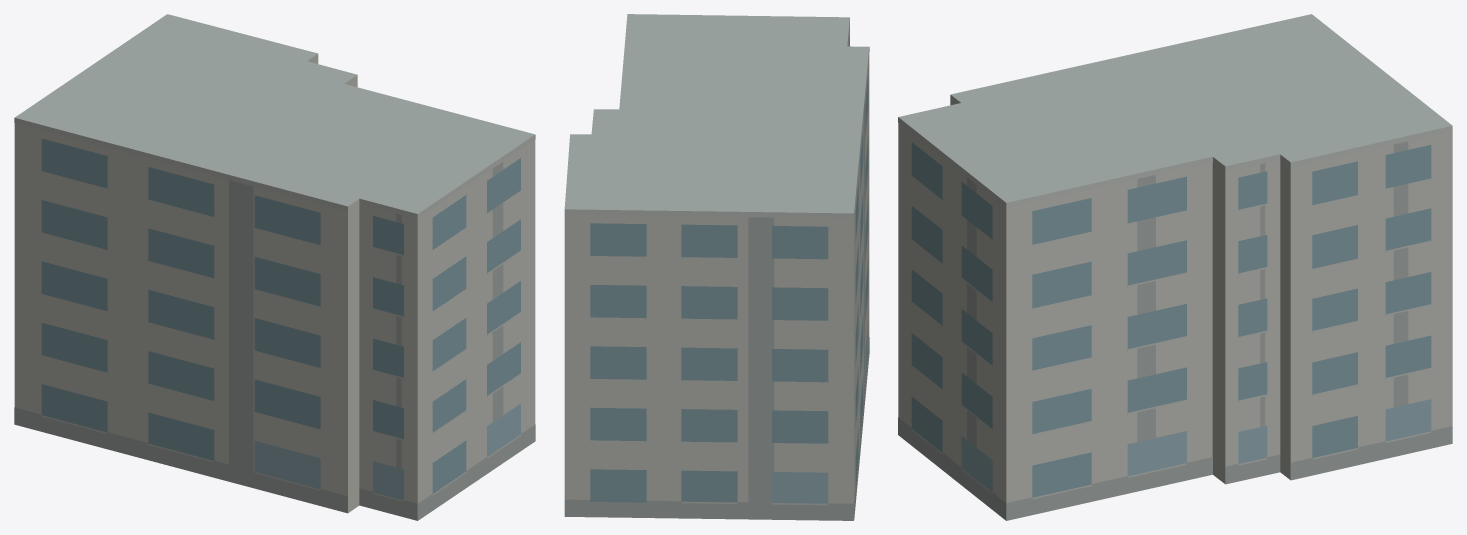
The model's file is survey-upis-32628539.glb.
The picture shows the model from 3 angles, left to right: view 1: azimuth 30°, elevation 25°; view 2: azimuth 150°, elevation 25°; view 3: azimuth 270°, elevation 25°; orthographic projection. The views are drawn at different scales.
Parts seen in each view (by area): view 1: survey-upis-32628539.tmp; view 2: survey-upis-32628539.tmp; view 3: survey-upis-32628539.tmp.
Part boxes in pixels (x1,y1,x2,y2): survey-upis-32628539.tmp: (14,14,535,520); survey-upis-32628539.tmp: (564,14,869,520); survey-upis-32628539.tmp: (898,14,1452,520).
Bounding box in the file's own units: 17.97 × 14.1 × 22.29.
